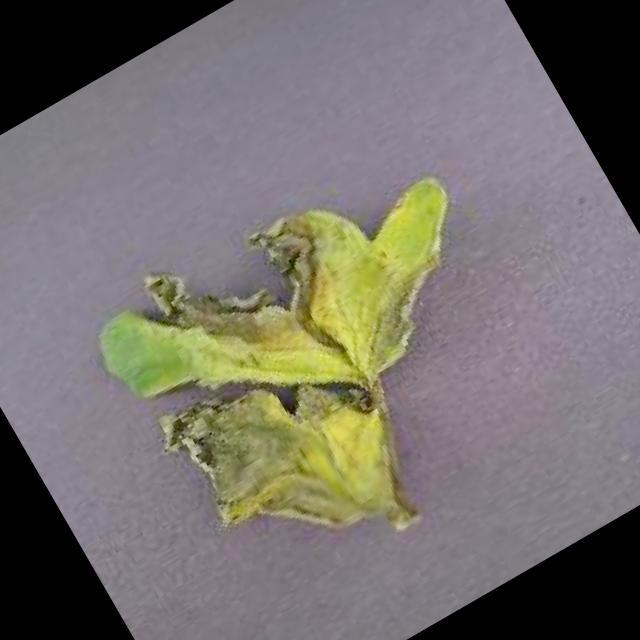Tomato late blight leaf: (80, 120, 578, 604)
